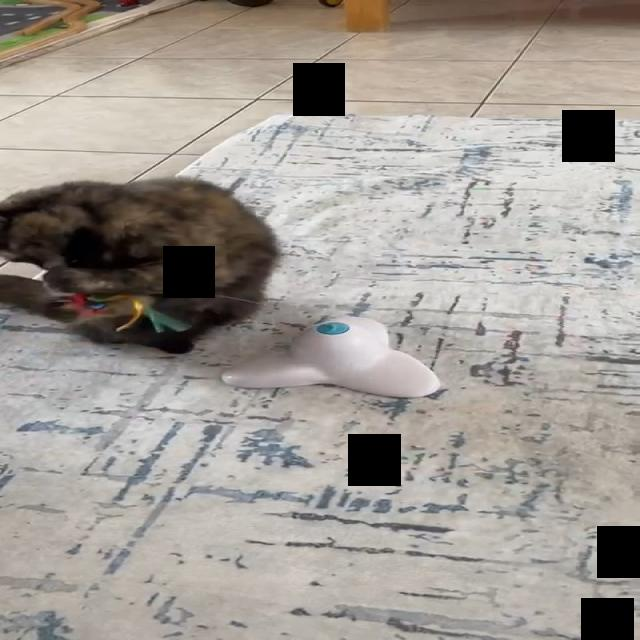authorized: (0, 175, 280, 354)
